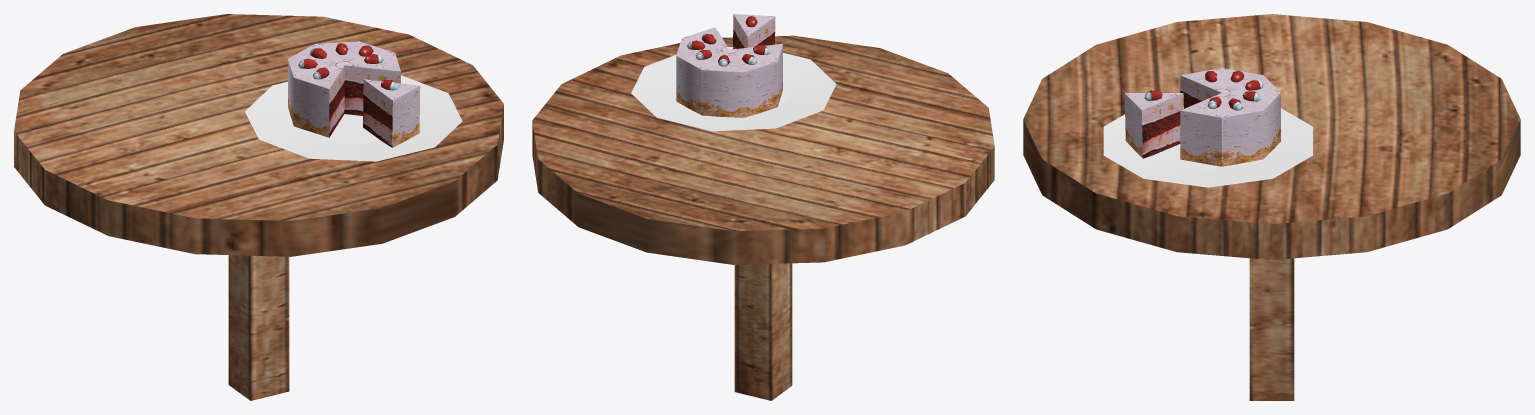
The model's file is obj_cake.fbx.
3 views of the same model, side by side, from view 1: azimuth 30°, elevation 25°; view 2: azimuth 150°, elevation 25°; view 3: azimuth 270°, elevation 25° (orthographic). The views are drawn at different scales.
Visible parts, largest first — view 1: pCylinder4; view 2: pCylinder4; view 3: pCylinder4.
Boxes of the visible parts, bbox=[...] form: pCylinder4: bbox=[14, 14, 503, 400]; pCylinder4: bbox=[532, 14, 994, 400]; pCylinder4: bbox=[1023, 14, 1520, 400].
Bounding box in the file's own units: 3.02 × 2.25 × 3.02.
1 material, 1 textured.
